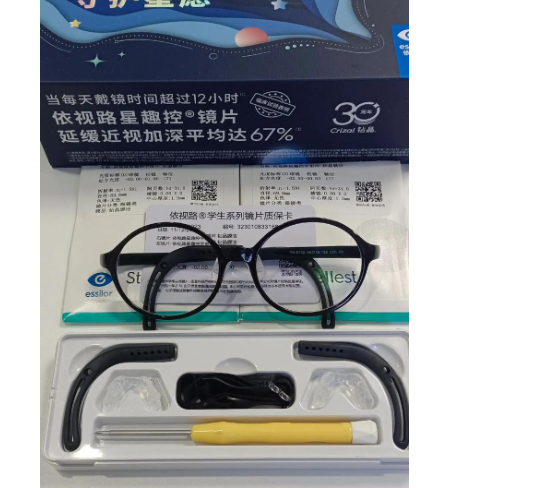glass: (96, 218, 395, 329)
